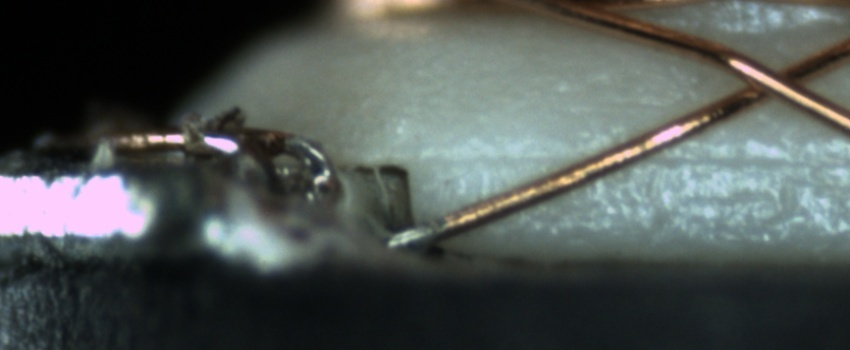CL: (718, 48, 828, 114)
DL: (416, 128, 850, 191)
TE: (95, 116, 335, 159)
TS: (390, 218, 444, 251)
